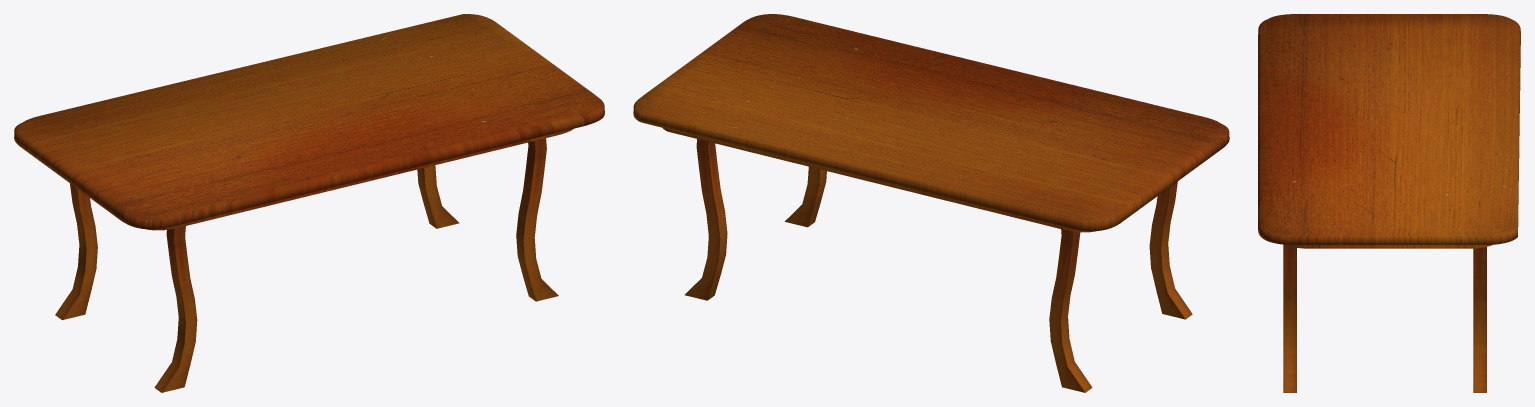
Rendered from Table Asset.FBX.
The picture shows the model from 3 angles, left to right: view 1: azimuth 30°, elevation 25°; view 2: azimuth 150°, elevation 25°; view 3: azimuth 270°, elevation 25°; orthographic projection. The views are drawn at different scales.
Parts seen in each view (by area): view 1: Table Model; view 2: Table Model; view 3: Table Model.
Part boxes in pixels (box(x1,y1,x2,y2)): Table Model: box(14, 14, 604, 392); Table Model: box(633, 14, 1229, 392); Table Model: box(1258, 14, 1520, 392).
Size of the model in its own units: 300 by 112 by 150.
Materials: 1 (1 with a texture image).
